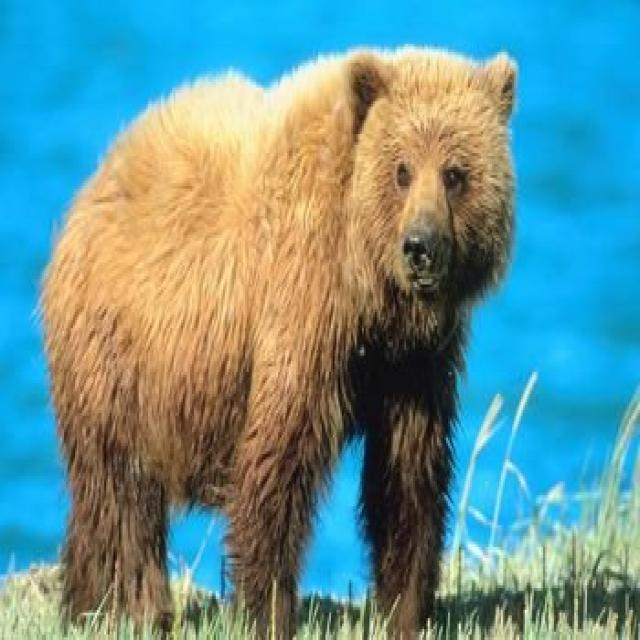bear: (1, 26, 593, 603)
